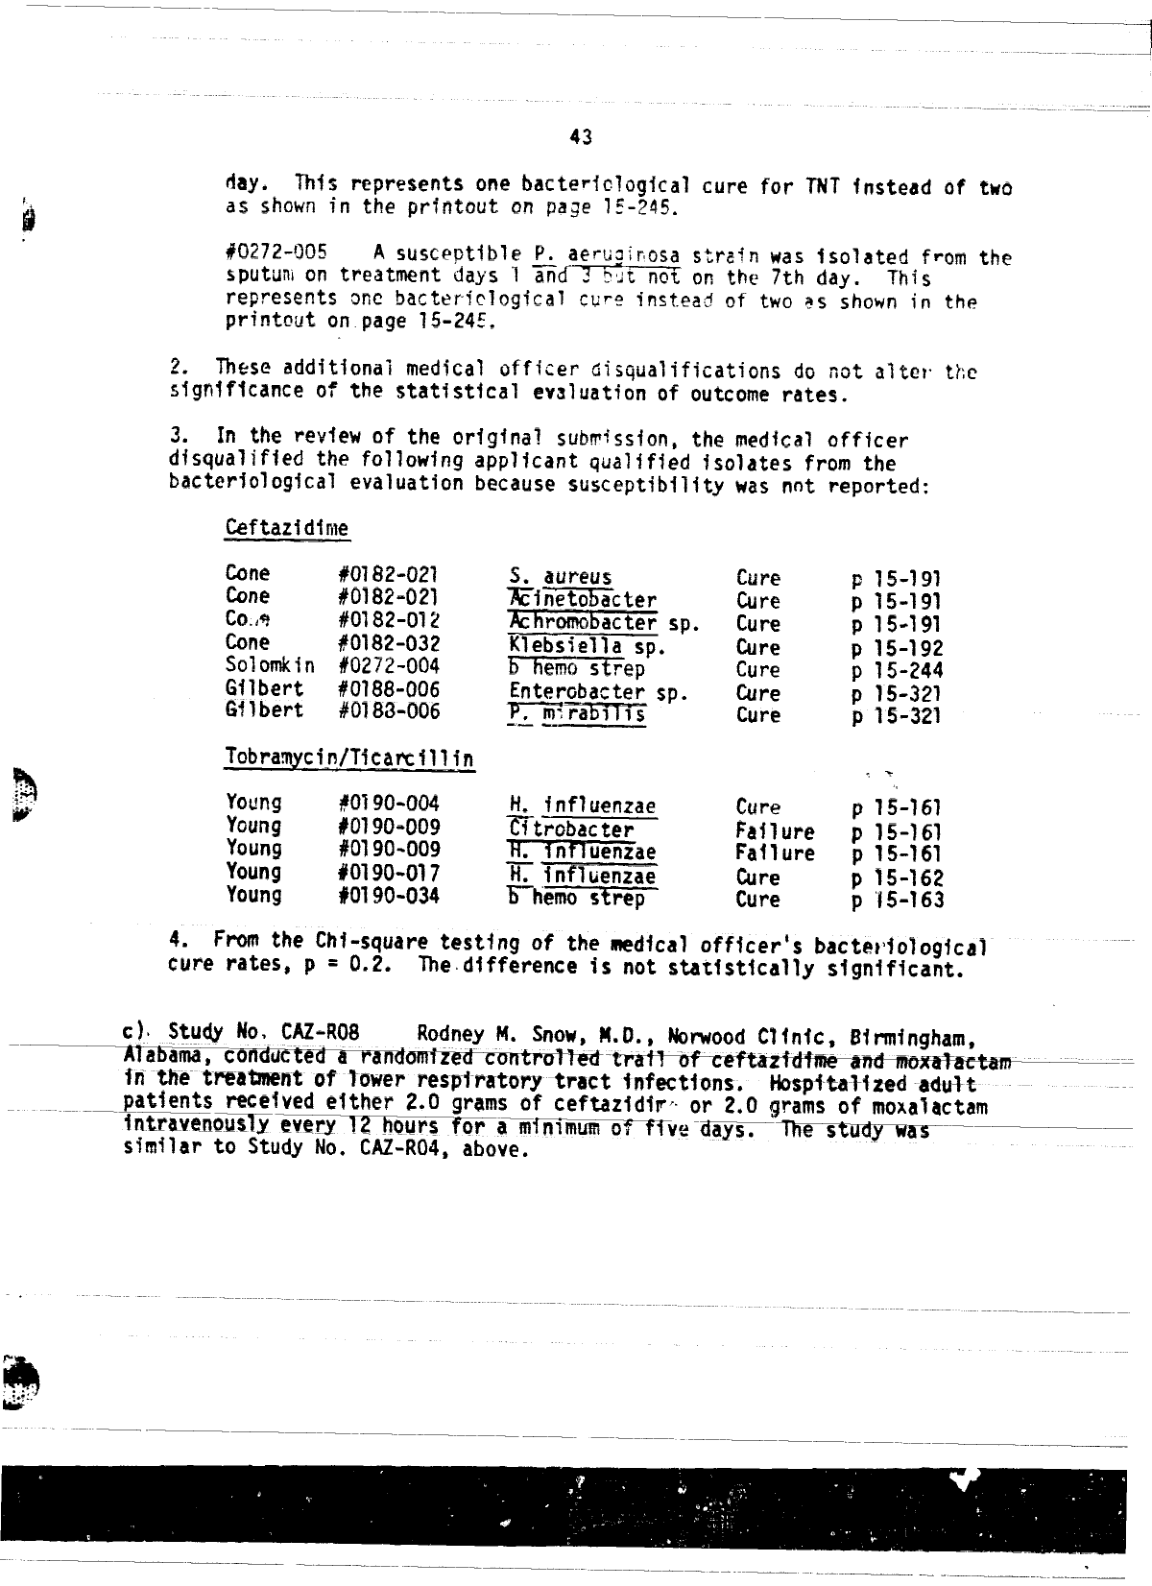nolines: (222, 513, 949, 915)
